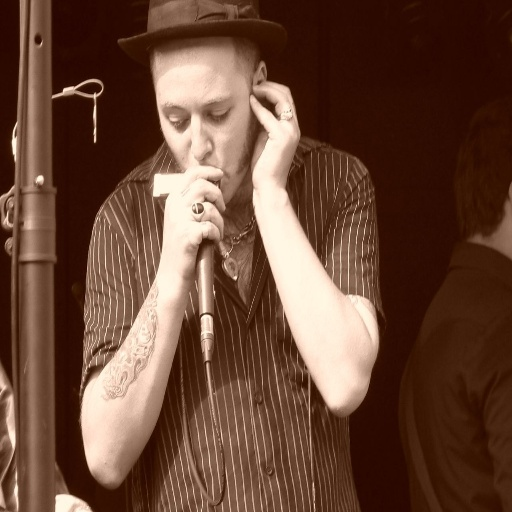hand: (249, 64, 303, 205), (163, 163, 224, 286)
